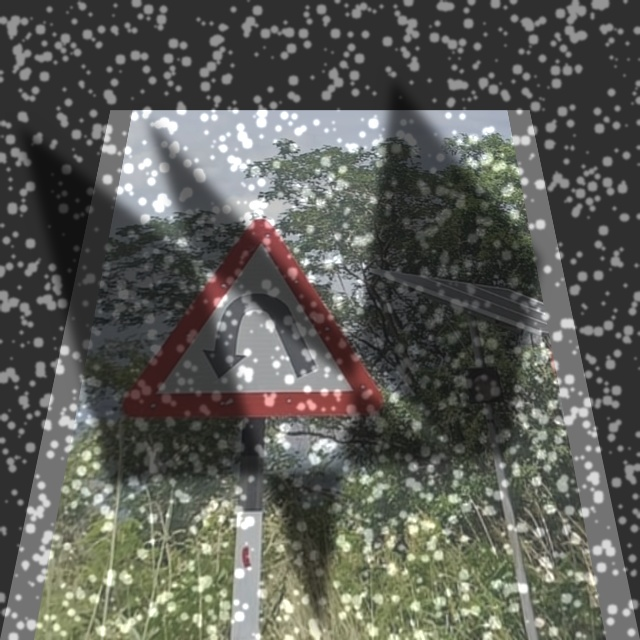Left_Hair_Pin_Bend: (117, 219, 389, 415)
